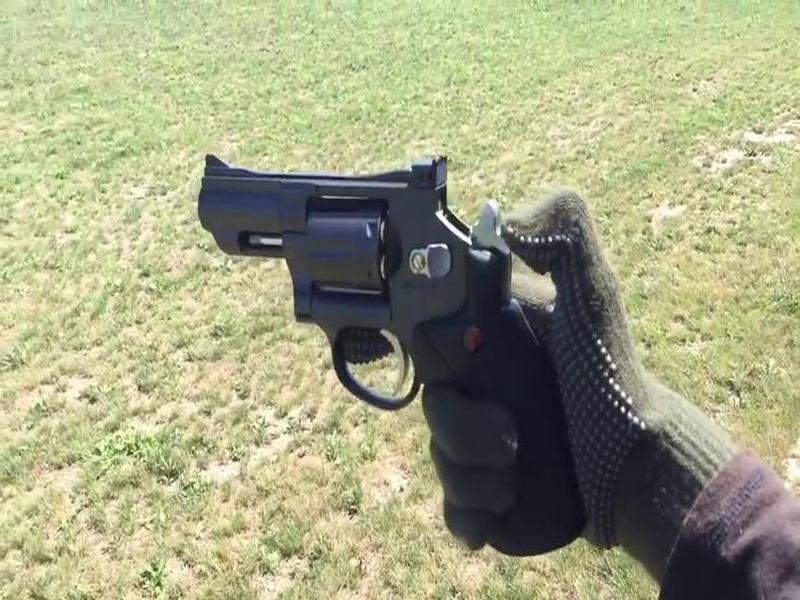Revolver: (196, 128, 587, 511)
